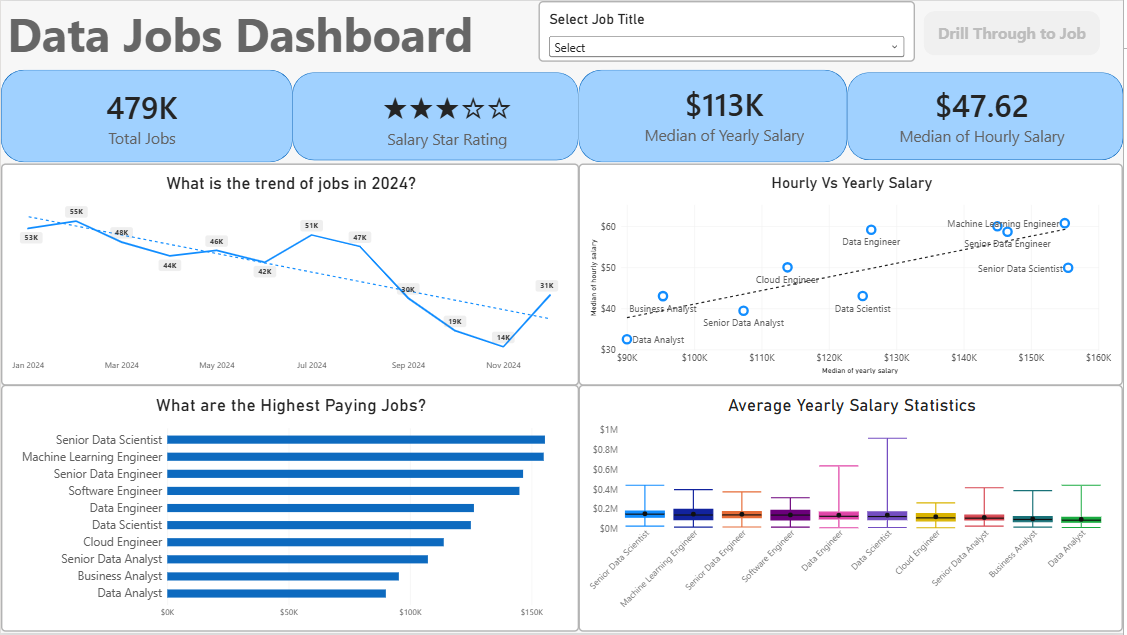

The dashboard page shown, as its layout file describes it:
{"tool":"powerbi","page":{"name":"Data Jobs Dashboard","canvas":[1920,1080],"ordinal":0},"visuals":[{"type":"group","id":"g1","title":"Group 1","box":[0,117.7,1920.1,158.9],"z":0},{"type":"shape","box":[0,118.3,499,158.3],"z":0,"group":"g1"},{"type":"textbox","box":[10.7,0,1032.7,134.7],"z":1000},{"type":"shape","box":[1447.7,121.2,472.3,150.2],"z":1000,"group":"g1"},{"type":"listSlicer","title":"Select Job Title","fields":{"Values":["job_postings_flat.job_title_short"]},"box":[919.8,0,644.2,104.3],"z":2000},{"type":"shape","box":[988.7,117.7,459.9,158.3],"z":2000,"group":"g1"},{"type":"shape","box":[499,121.4,489.7,150.8],"z":3000,"group":"g1"},{"type":"cardVisual","fields":{"Data":["CountNonNull(job_postings_flat.job_title_short)"]},"box":[31.7,141.5,418.9,115.4],"z":3000},{"type":"cardVisual","fields":{"Data":["Table.Salary Star Rating"]},"box":[569.8,134.1,389.1,128.5],"z":4000},{"type":"cardVisual","fields":{"Data":["Median(job_postings_flat.salary_year_avg)"]},"box":[1044.5,130.3,383.6,126.6],"z":5000},{"type":"cardVisual","fields":{"Data":["Median(job_postings_flat.salary_hour_avg)"]},"box":[1474.6,134.1,405.9,121],"z":6000},{"type":"lineChart","title":"What is the trend of jobs in 2024?","fields":{"Category":["job_postings_flat.job_posted_date.Variation.Date Hierarchy.Year","job_postings_flat.job_posted_date.Variation.Date Hierarchy.Quarter","job_postings_flat.job_posted_date.Variation.Date Hierarchy.Month","job_postings_flat.job_posted_date.Variation.Date Hierarchy.Day"],"Y":["CountNonNull(job_postings_flat.job_title_short)"]},"box":[0,277.4,988.7,379.8],"z":7000},{"type":"clusteredBarChart","title":"What are the Highest Paying Jobs?","fields":{"Category":["job_postings_flat.job_title_short"],"Y":["CountNonNull(job_postings_flat.job_title_short)"]},"box":[0,657.3,988.7,422.7],"z":8000},{"type":"scatterChart","title":"Hourly Vs Yearly Salary","fields":{"Category":["job_postings_flat.job_title_short"],"X":["Median(job_postings_flat.salary_year_avg)"],"Y":["Median(job_postings_flat.salary_hour_avg)"]},"box":[988.7,277.4,931,379.8],"z":9000},{"type":"BoxWhiskerChart1455240051538","title":"Average Yearly Salary Statistics","fields":{"Groups":["job_postings_flat.job_title_short"],"Values":["Median(job_postings_flat.salary_year_avg)"],"Samples":["job_postings_flat.salary_year_avg"]},"box":[988.7,657.3,931,422.7],"z":10000},{"type":"actionButton","box":[1578,16.3,302.2,76],"z":10001}]}

Visuals, with their boxes in screenshot pixels (x1, y1, x2, y2), scaled from the page's 1920x1080 canvas onto the 1127x635 screenshot:
"Group 1" group: <region>0, 69, 1126, 163</region>
shape: <region>0, 70, 293, 163</region>
textbox: <region>6, 0, 612, 79</region>
shape: <region>850, 71, 1126, 160</region>
"Select Job Title" listSlicer: <region>540, 0, 918, 61</region>
shape: <region>580, 69, 850, 162</region>
shape: <region>293, 71, 580, 160</region>
cardVisual - CountNonNull(job_postings_flat.job_title_short): <region>19, 83, 264, 151</region>
cardVisual - Table.Salary Star Rating: <region>334, 79, 563, 154</region>
cardVisual - Median(job_postings_flat.salary_year_avg): <region>613, 77, 838, 151</region>
cardVisual - Median(job_postings_flat.salary_hour_avg): <region>866, 79, 1104, 150</region>
"What is the trend of jobs in 2024?" lineChart: <region>0, 163, 580, 386</region>
"What are the Highest Paying Jobs?" clusteredBarChart: <region>0, 386, 580, 634</region>
"Hourly Vs Yearly Salary" scatterChart: <region>580, 163, 1126, 386</region>
"Average Yearly Salary Statistics" BoxWhiskerChart1455240051538: <region>580, 386, 1126, 634</region>
actionButton: <region>926, 10, 1104, 54</region>
